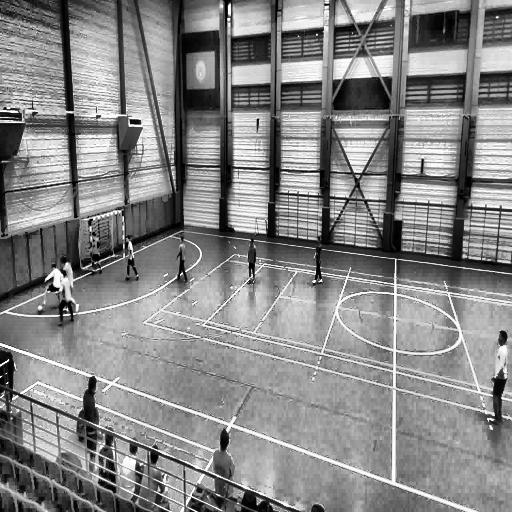ball: (38, 303, 44, 312)
player: (488, 329, 508, 424), (55, 270, 76, 330), (61, 254, 80, 318), (42, 261, 64, 311), (124, 234, 140, 282), (176, 237, 188, 283), (313, 235, 323, 283), (91, 233, 102, 275), (247, 238, 257, 283)
